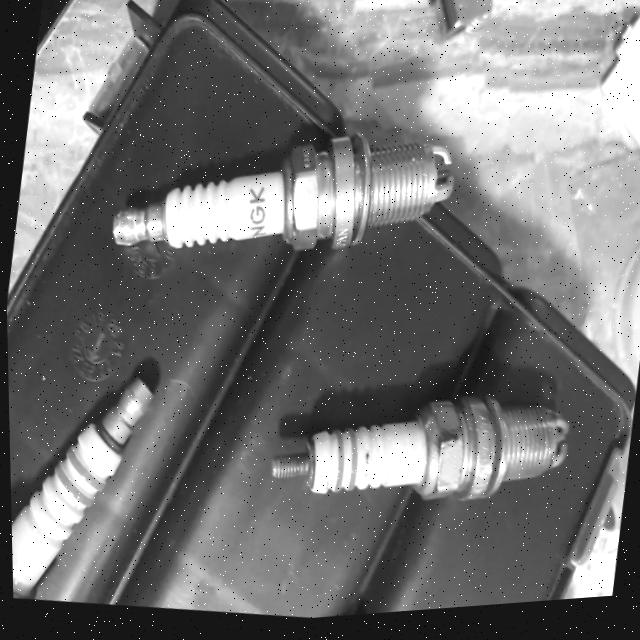spark-plug: (241, 345, 600, 592), (117, 97, 466, 313), (6, 350, 168, 615)
